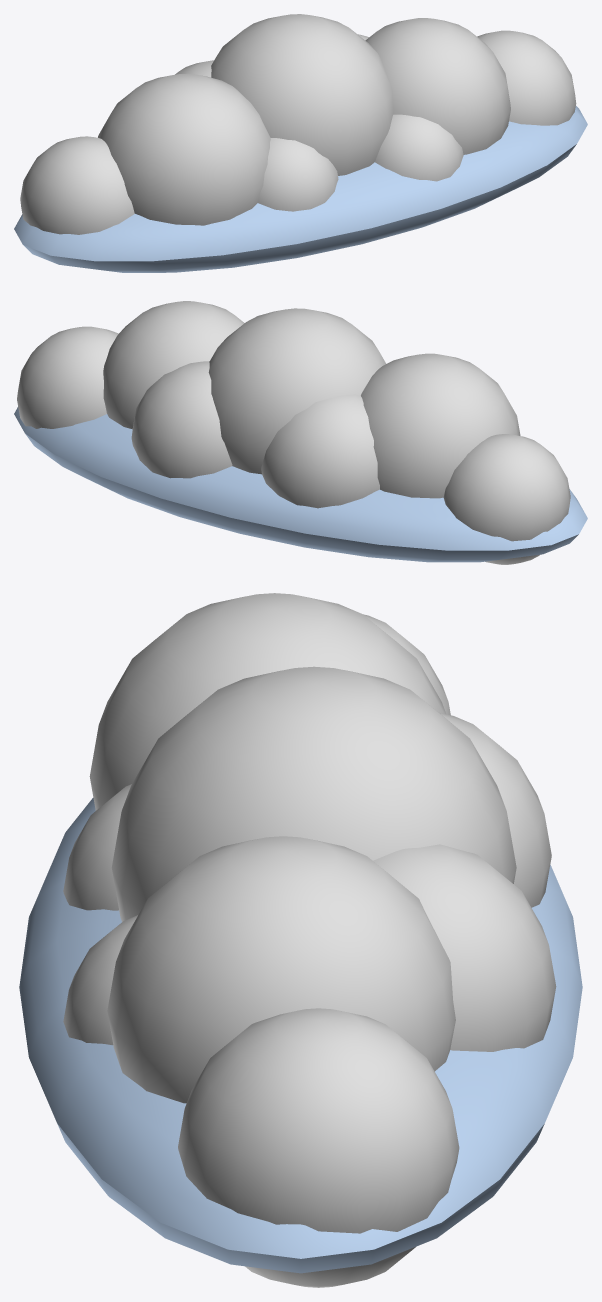
The model's file is CloudPuff.fbx.
The picture shows the model from 3 angles, top to bottom: view 1: azimuth 30°, elevation 25°; view 2: azimuth 150°, elevation 25°; view 3: azimuth 270°, elevation 25°; orthographic projection. The views are drawn at different scales.
Parts seen in each view (by area): view 1: CloudPuff; view 2: CloudPuff; view 3: CloudPuff.
Part boxes in pixels (<box>): CloudPuff: <box>14,14,587,272</box>; CloudPuff: <box>14,301,587,564</box>; CloudPuff: <box>19,593,582,1287</box>.
Size of the model in its own units: 29.2 by 9.9 by 12.8.
